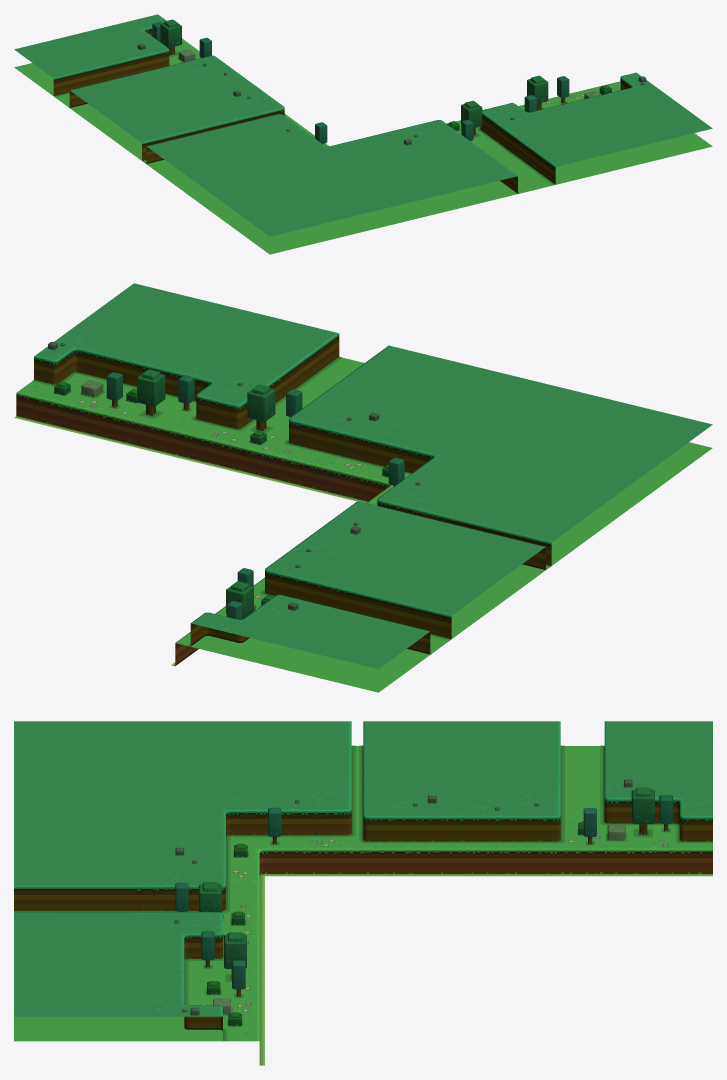
Rendered from C_grass1_out_RU.fbx.
3 views of the same model, one above another, from view 1: azimuth 30°, elevation 25°; view 2: azimuth 150°, elevation 25°; view 3: azimuth 270°, elevation 25° (orthographic). The views are drawn at different scales.
Visible parts, largest first — view 1: C_grass1_out_RU; view 2: C_grass1_out_RU; view 3: C_grass1_out_RU.
Boxes of the visible parts, <box> form: C_grass1_out_RU: <box>14,14,712,254</box>; C_grass1_out_RU: <box>14,283,712,692</box>; C_grass1_out_RU: <box>14,721,712,1065</box>.
Size of the model in its own units: 117 by 12.59 by 117.
